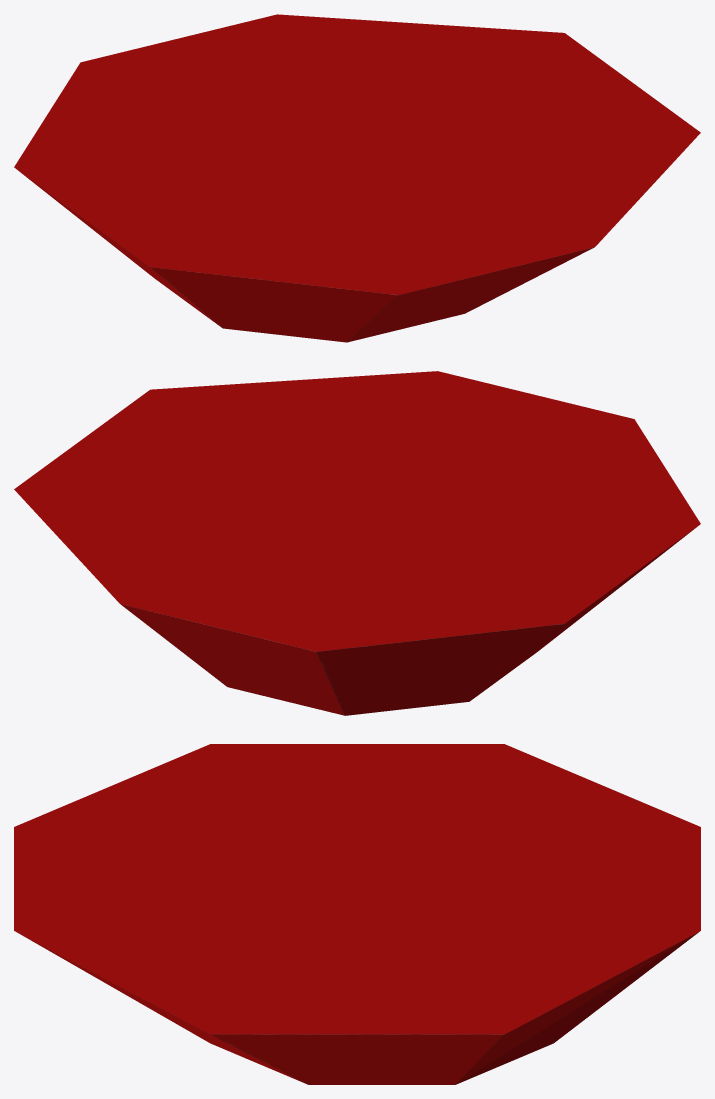
The model's file is blood.obj.
The picture shows the model from 3 angles, top to bottom: view 1: azimuth 30°, elevation 25°; view 2: azimuth 150°, elevation 25°; view 3: azimuth 270°, elevation 25°; orthographic projection. The views are drawn at different scales.
Visible parts, largest first — view 1: Default; view 2: Default; view 3: Default.
Boxes of the visible parts, x1,y1,x2,y2 form: Default: (14,14,700,342); Default: (14,371,700,715); Default: (14,744,700,1084).
Size of the model in its own units: 0.875 by 0.1875 by 0.875.
